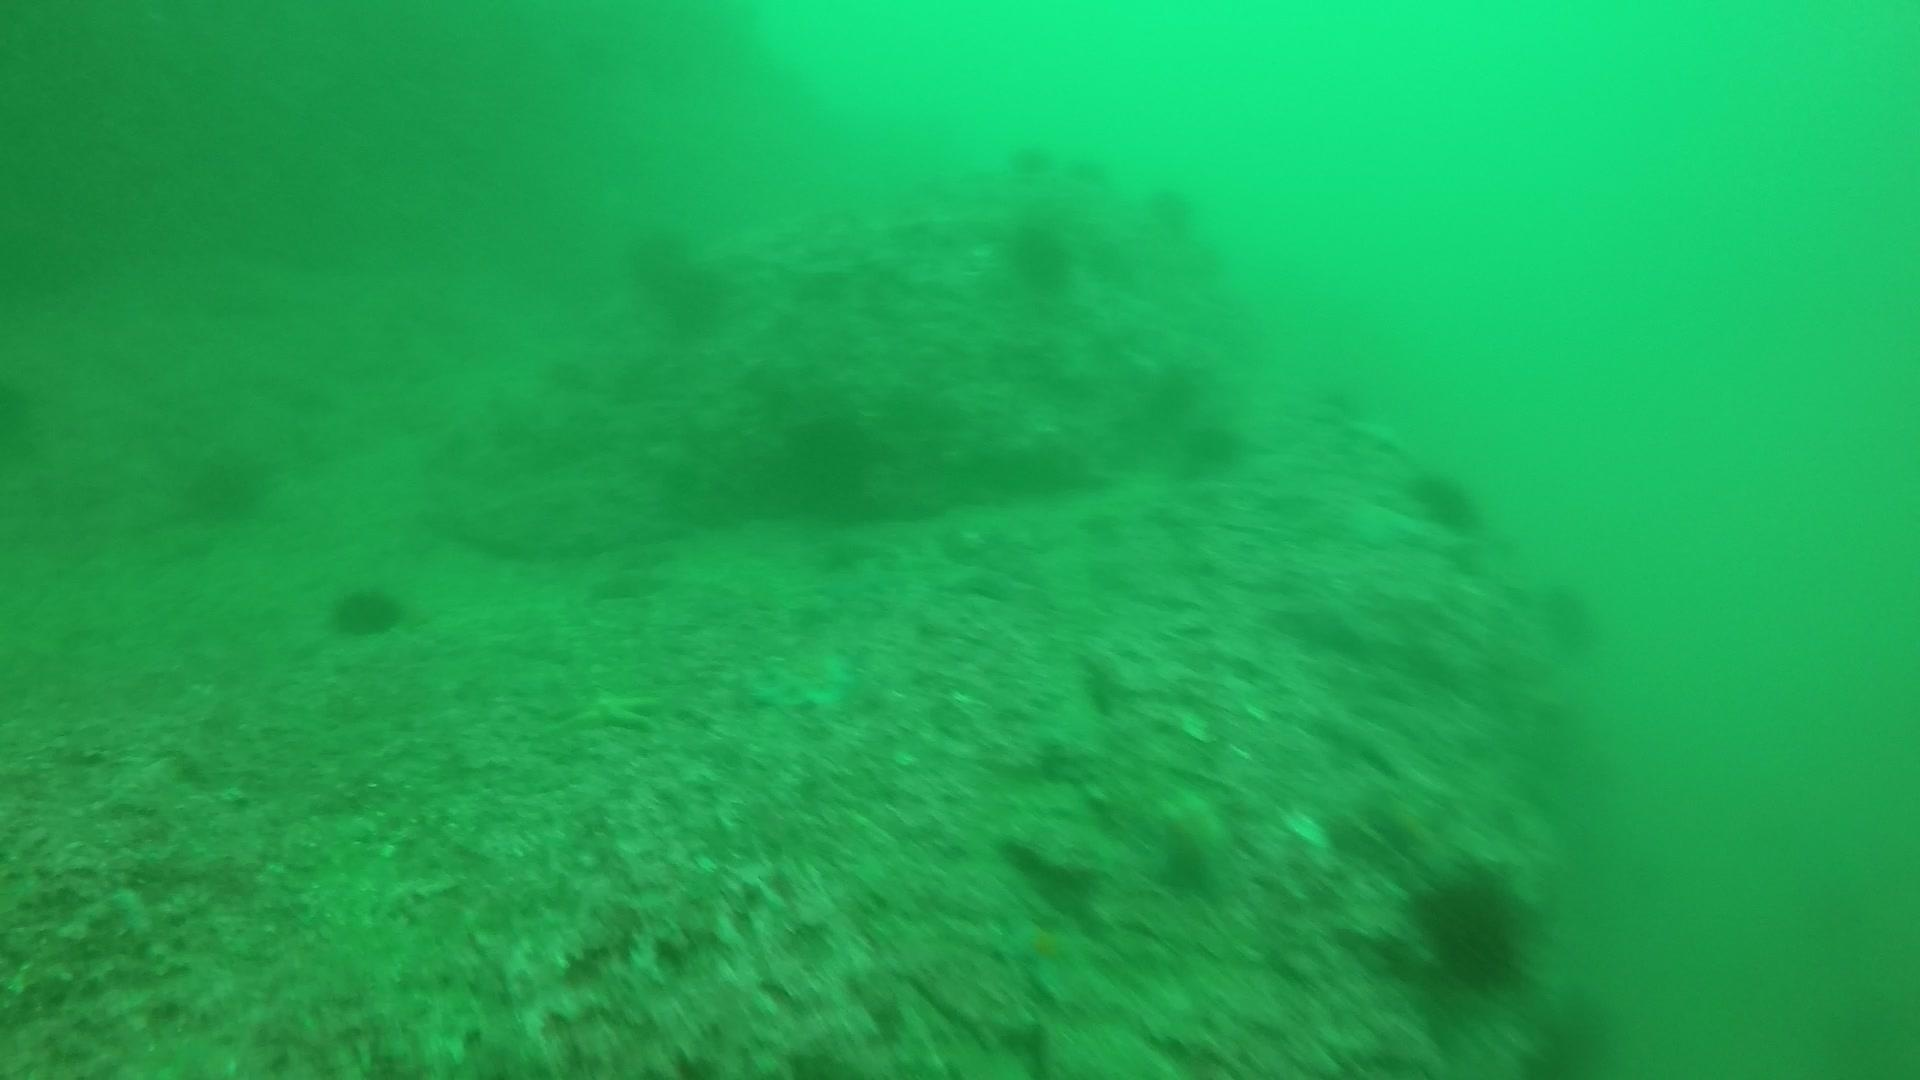echinus: (1406, 860, 1538, 992), (175, 438, 276, 525), (1000, 214, 1079, 295), (1402, 462, 1486, 535), (324, 578, 410, 644), (1534, 576, 1605, 655), (1174, 411, 1249, 479), (1298, 369, 1373, 436), (659, 266, 732, 332), (622, 227, 695, 291), (1139, 178, 1203, 243), (1065, 146, 1120, 195), (1007, 132, 1062, 179)
starfish: (993, 899, 1098, 1002), (537, 665, 662, 748)
